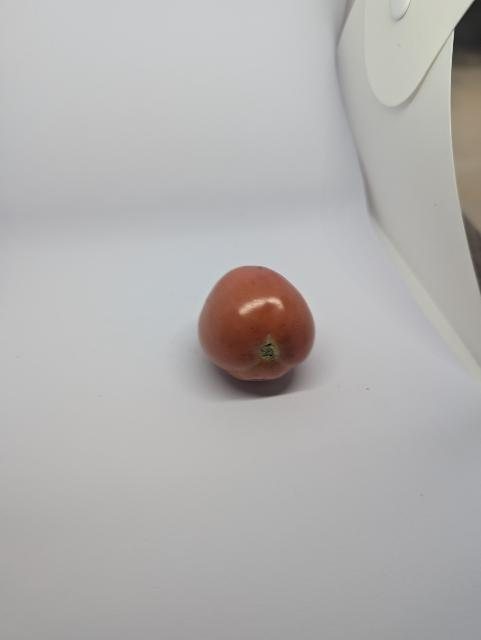red: (181, 255, 338, 407)
